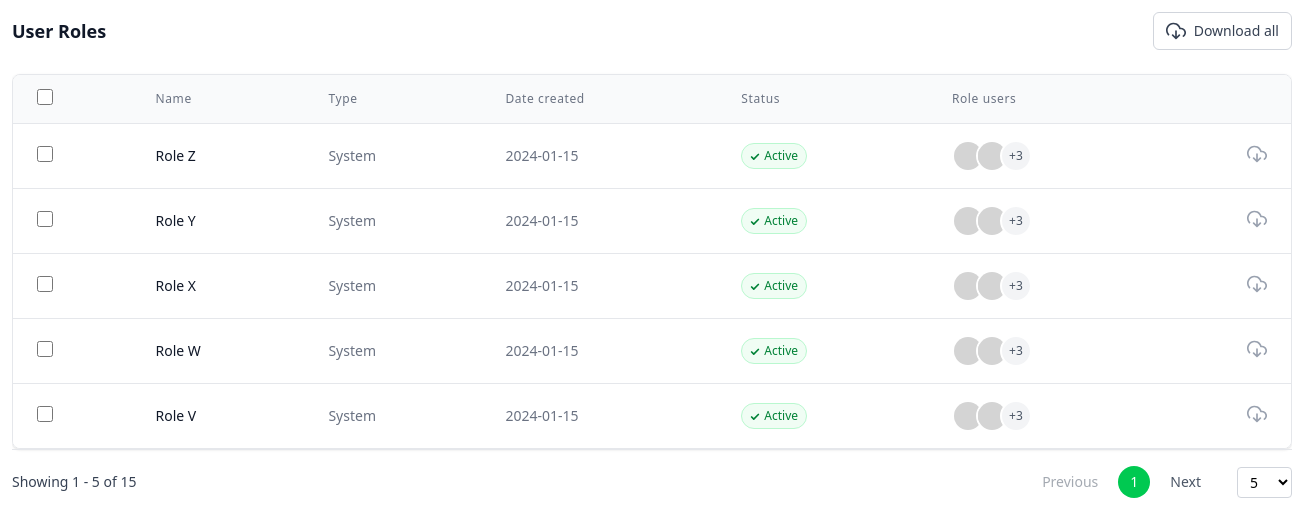
Scenario: UserRoleTable › Sorting › resets to first page when sorting
The width and height of the screenshot is (1304, 515).
Expected: the text "Role Z" is shown, [132, 124, 304, 188]
Note: Go to page 2
Click the button "Next": click(1186, 482) [1158, 468, 1213, 496]
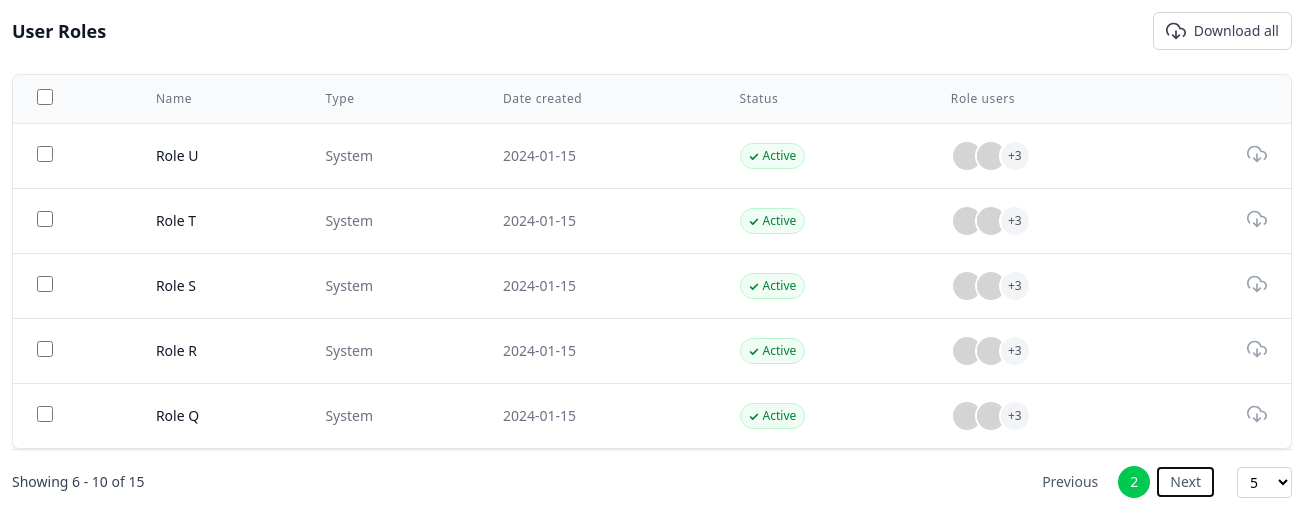
Note: Now sort by name
Click the button "Name": click(174, 99) [156, 91, 192, 107]
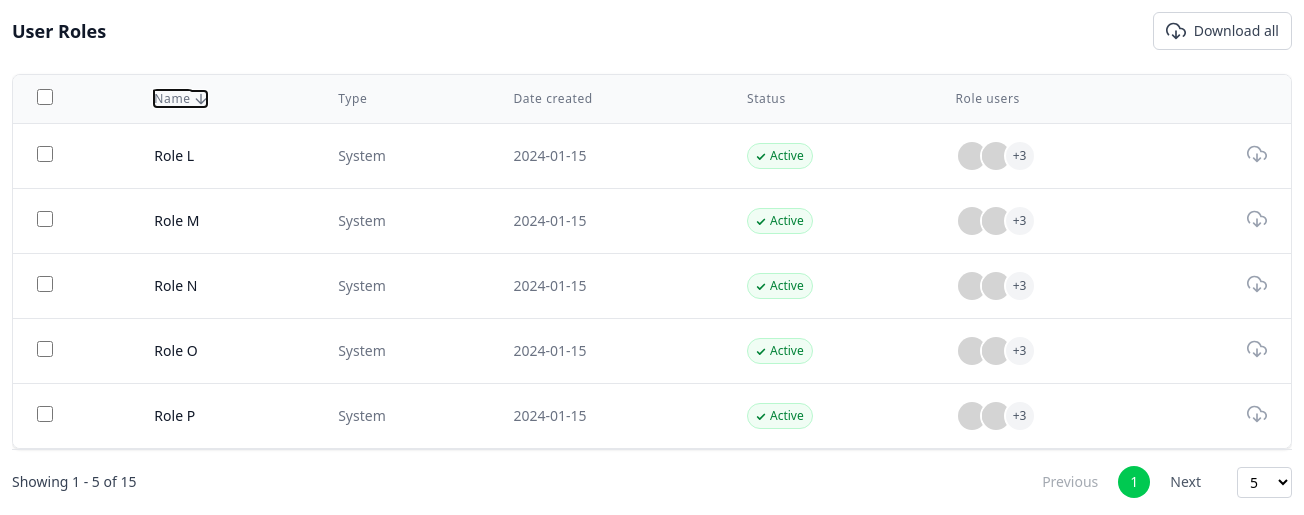
Expected: the text "1" is shown, [1118, 466, 1150, 498]
